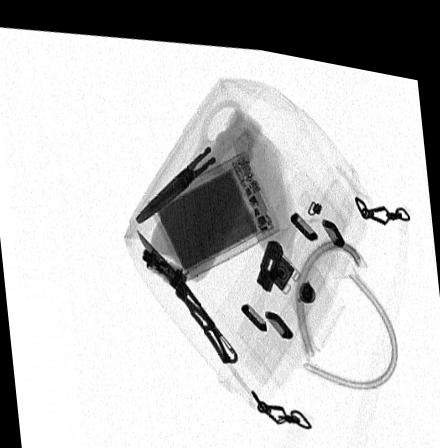Knife: (137, 222, 238, 355)
Powerbank: (149, 138, 282, 274)
Scissors: (135, 87, 257, 219)
